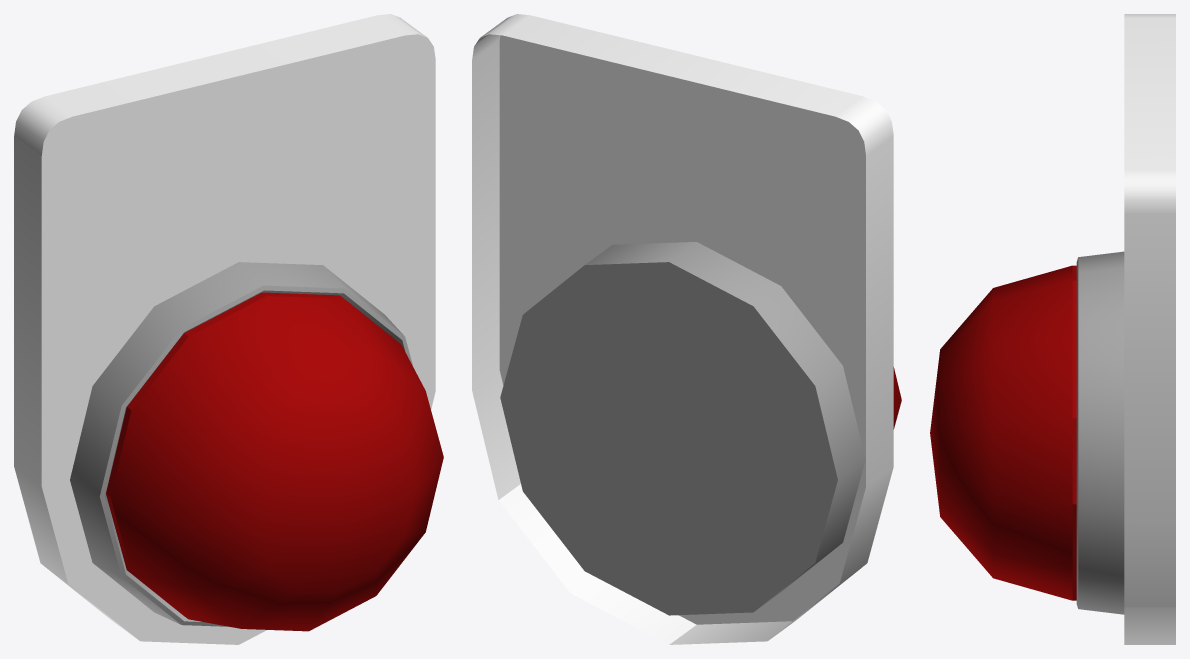
Rendered from button_ON_RED1.fbx.
3 views of the same model, side by side, from view 1: azimuth 30°, elevation 25°; view 2: azimuth 150°, elevation 25°; view 3: azimuth 270°, elevation 25° (orthographic). The views are drawn at different scales.
Parts seen in each view (by area): view 1: button_ON_RED1; view 2: button_ON_RED1; view 3: button_ON_RED1.
Part boxes in pixels (x1=…): button_ON_RED1: x1=14, y1=14, x2=443, y2=644; button_ON_RED1: x1=472, y1=14, x2=901, y2=644; button_ON_RED1: x1=930, y1=14, x2=1175, y2=644.
Size of the model in its own units: 0.0293 by 0.0405 by 0.017.
Materials: 1 (1 with a texture image).
